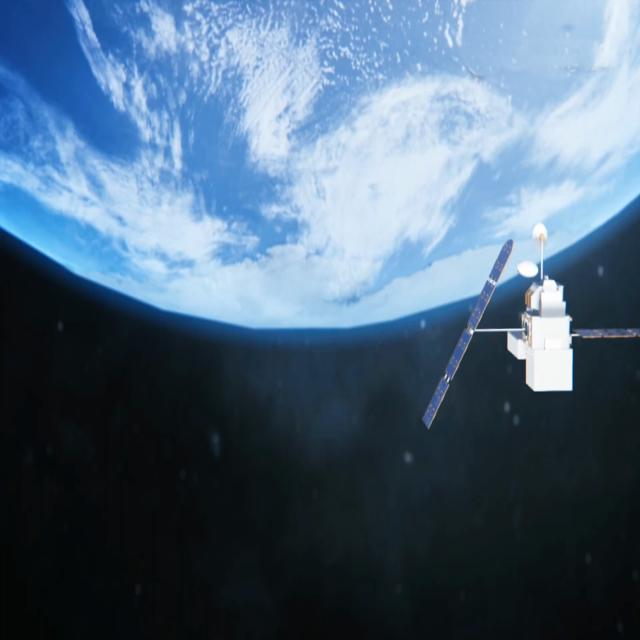medium_debris: (412, 224, 640, 459)
